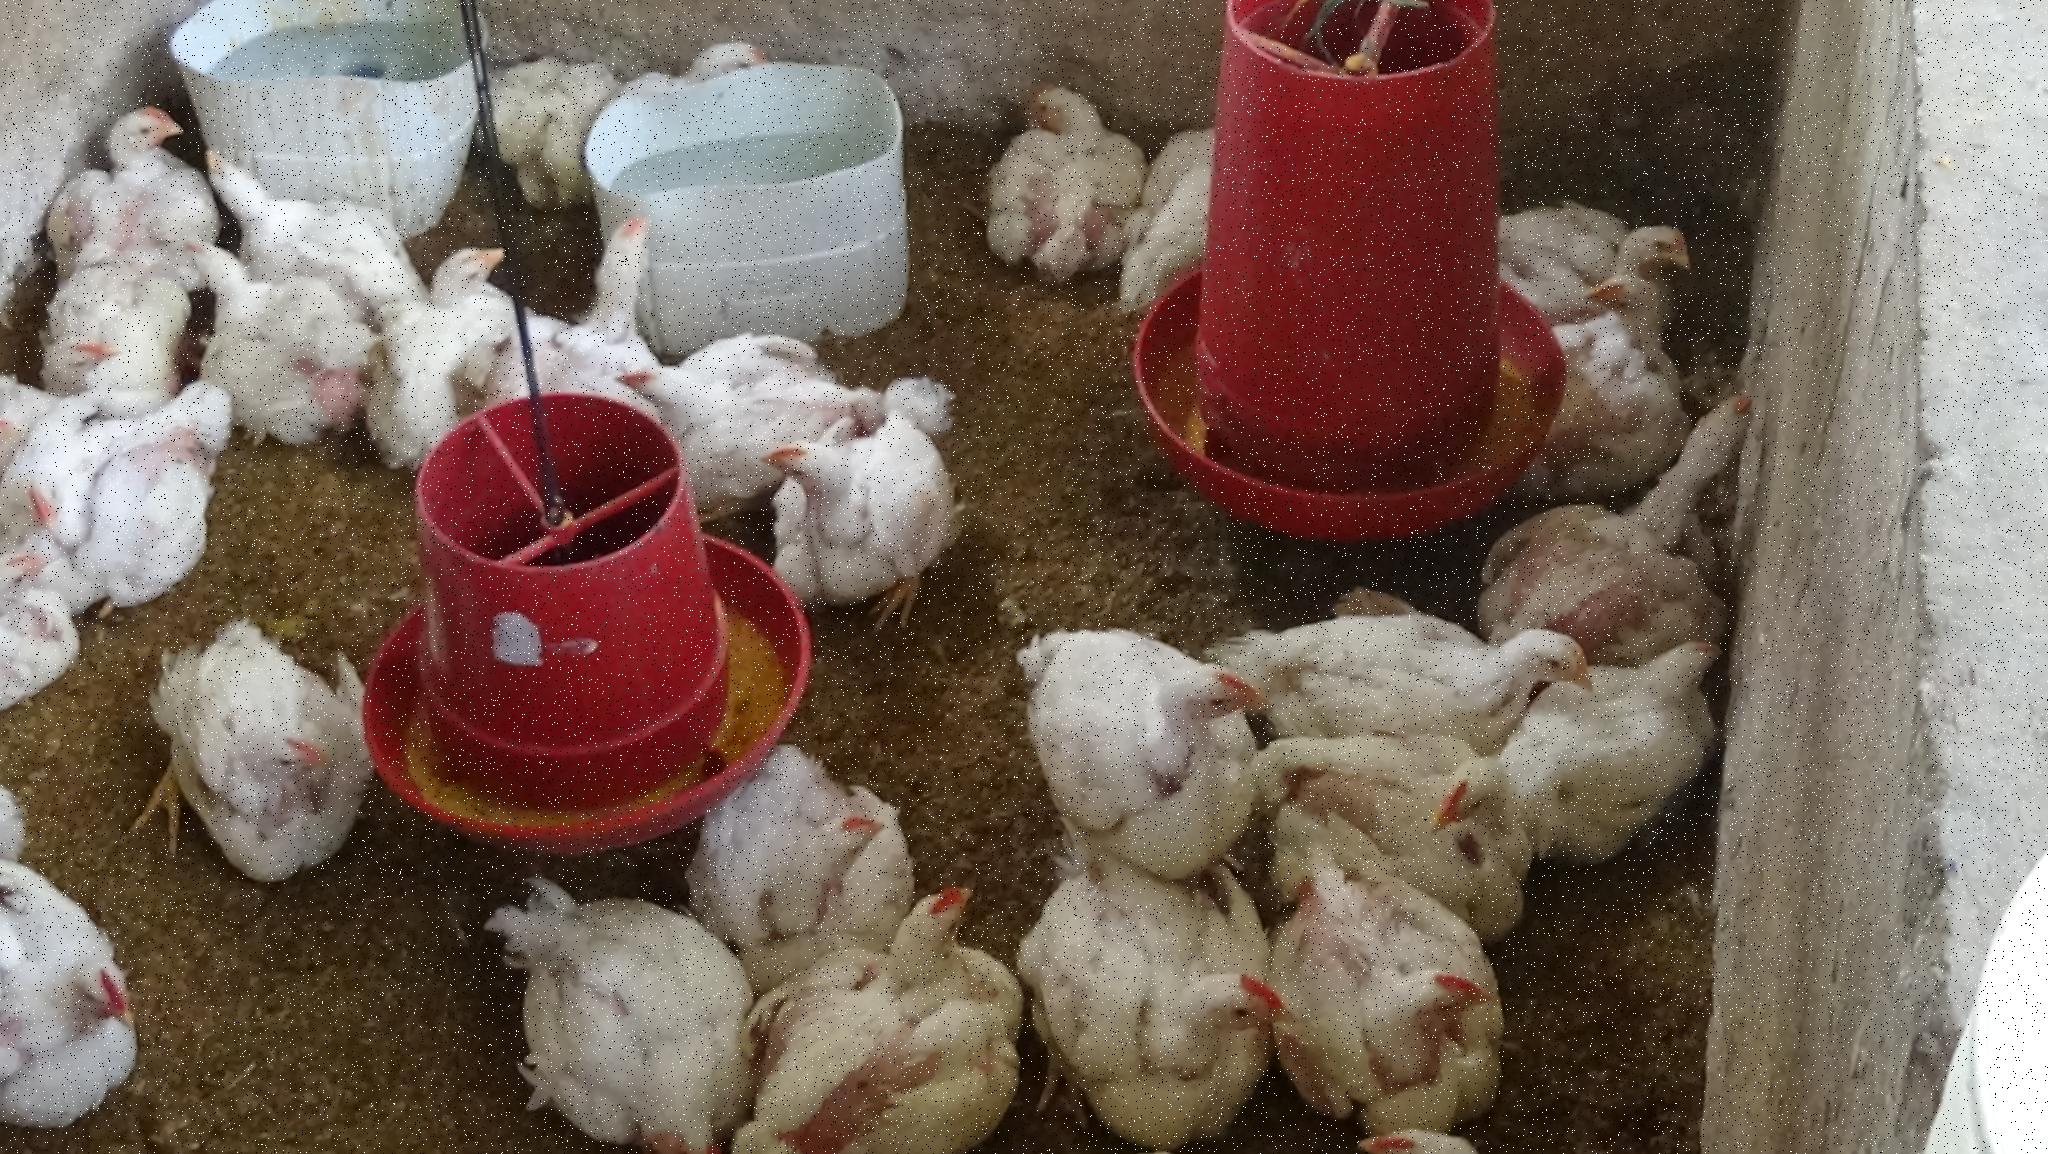Pollos: (741, 892, 1049, 1154), (973, 592, 1274, 856), (1055, 840, 1281, 1154), (141, 630, 418, 877), (1516, 384, 1798, 622), (491, 892, 731, 1154), (1523, 608, 1753, 861), (1255, 581, 1596, 750), (1281, 877, 1513, 1109), (744, 418, 985, 611), (1, 882, 163, 1115), (629, 291, 834, 471), (1494, 267, 1710, 436), (705, 768, 919, 939), (1001, 53, 1146, 276), (478, 34, 650, 200), (186, 236, 349, 400), (1516, 170, 1708, 272), (80, 86, 212, 227), (42, 251, 173, 388), (1411, 735, 1553, 843), (578, 210, 686, 342), (6, 404, 90, 553), (428, 236, 518, 315), (1, 543, 73, 623), (1342, 1117, 1497, 1154)
